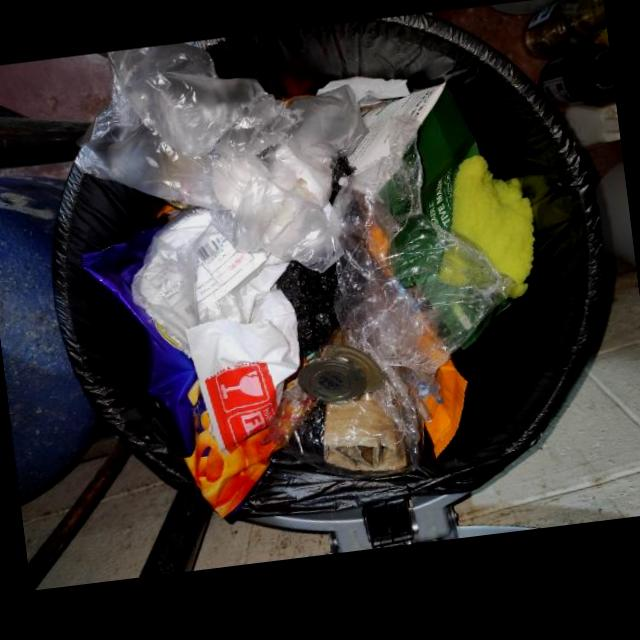bao_bi_thuc_pham: (81, 225, 312, 517), (423, 358, 467, 457)
giay: (185, 287, 300, 452)
nhom: (297, 355, 367, 403), (319, 343, 384, 392)
tui_ni_long: (74, 41, 362, 270)
